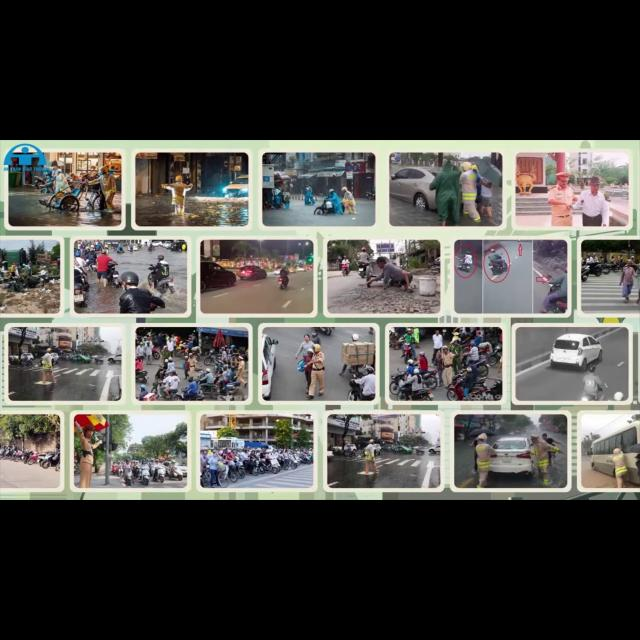bus: (589, 421, 639, 483), (213, 437, 244, 448)
car: (390, 167, 436, 209), (550, 334, 602, 371), (490, 437, 534, 474), (261, 334, 278, 399), (200, 261, 236, 291), (222, 175, 248, 197), (237, 265, 267, 279), (71, 354, 91, 364), (175, 462, 187, 476), (169, 241, 187, 250), (10, 353, 33, 360), (108, 354, 121, 363), (343, 444, 356, 452), (429, 445, 440, 453), (51, 353, 59, 364), (374, 444, 381, 455), (327, 451, 333, 461), (382, 445, 392, 451), (162, 241, 172, 247), (151, 241, 161, 246), (273, 268, 280, 275), (296, 266, 305, 271), (132, 244, 139, 250)
motorcycle: (397, 383, 433, 400), (463, 356, 488, 376), (123, 468, 147, 488), (581, 380, 604, 400), (447, 374, 464, 400), (389, 369, 403, 394), (485, 380, 502, 400), (107, 263, 121, 287), (421, 370, 437, 390), (314, 198, 334, 214), (179, 388, 204, 400), (347, 379, 361, 400), (487, 344, 501, 365), (74, 283, 86, 307), (156, 277, 174, 293), (42, 452, 59, 468), (550, 297, 567, 313), (489, 260, 507, 275), (37, 452, 54, 466), (456, 257, 472, 271), (586, 263, 602, 276), (168, 467, 183, 480), (154, 466, 166, 482), (140, 464, 149, 485), (403, 342, 412, 363), (267, 459, 280, 473), (204, 350, 216, 365), (21, 451, 36, 463), (313, 327, 333, 335), (358, 262, 368, 278), (135, 370, 147, 383), (278, 274, 288, 289), (478, 347, 490, 359), (610, 261, 623, 272), (27, 452, 38, 464), (581, 265, 589, 281), (341, 450, 356, 458), (601, 263, 610, 274), (152, 348, 160, 359), (342, 264, 349, 275), (366, 192, 375, 200), (117, 466, 123, 478), (415, 448, 424, 455), (94, 357, 103, 364), (91, 262, 96, 272), (55, 462, 60, 471), (147, 246, 155, 251), (116, 249, 124, 253)
